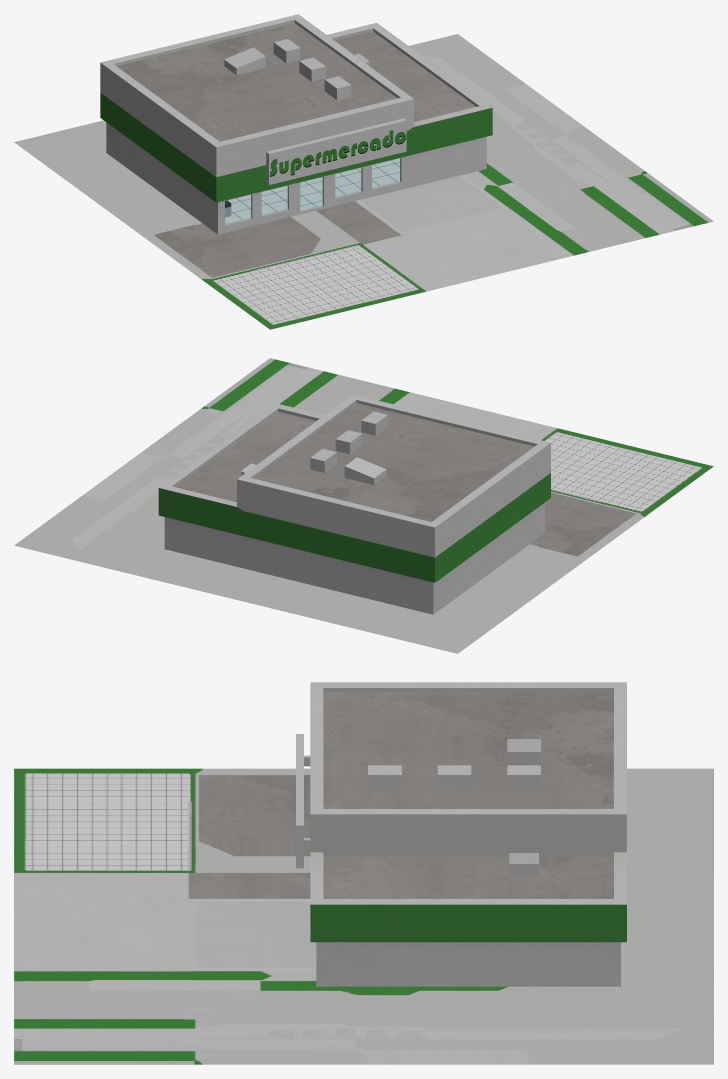
Rendered from supermercado.glb.
The picture shows the model from 3 angles, top to bottom: view 1: azimuth 30°, elevation 25°; view 2: azimuth 150°, elevation 25°; view 3: azimuth 270°, elevation 25°; orthographic projection. The views are drawn at different scales.
Parts seen in each view (by area): view 1: Piso, Edificio: muros y estructura, Letrero colgante, Vidrio de fachada, Instalaciones de techo; view 2: Edificio: muros y estructura, Piso, Instalaciones de techo; view 3: Piso, Edificio: muros y estructura, Instalaciones de techo, Letrero colgante.
Boxes of the visible parts, x1,y1,x2,y2 form: Piso: (14,34,713,329); Edificio: muros y estructura: (100,14,492,234); Letrero colgante: (266,118,406,184); Vidrio de fachada: (225,159,400,224); Instalaciones de techo: (224,39,369,100); Edificio: muros y estructura: (158,394,550,614); Piso: (14,358,713,653); Instalaciones de techo: (241,411,387,484); Piso: (14,768,713,1064); Edificio: muros y estructura: (310,682,626,986); Instalaciones de techo: (368,739,540,875); Letrero colgante: (296,734,310,868).
Size of the model in its own units: 13.37 by 2.83 by 13.37.
Materials: 15 (14 with a texture image).
